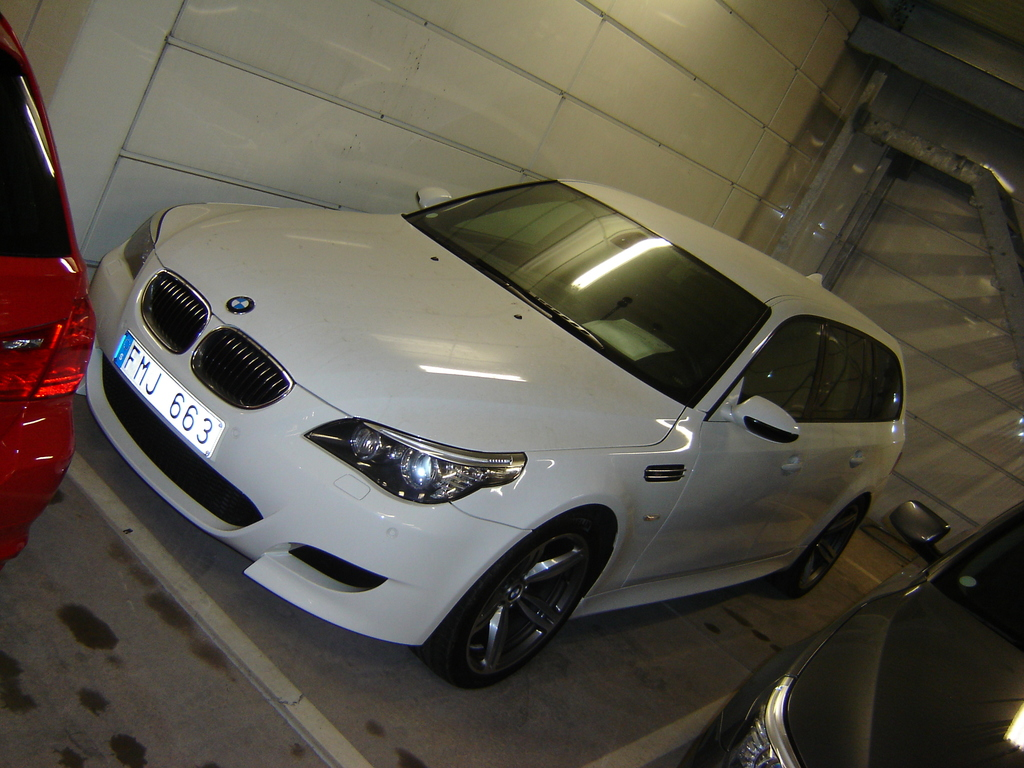Car: (97, 176, 904, 700), (693, 500, 1023, 762), (0, 8, 92, 563)
